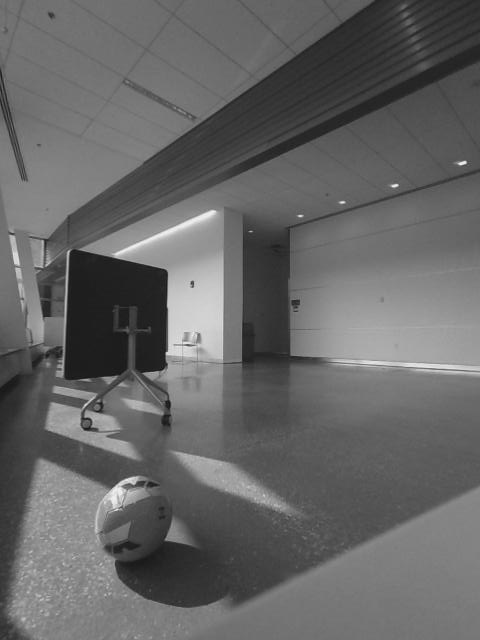ball: (90, 470, 176, 564)
